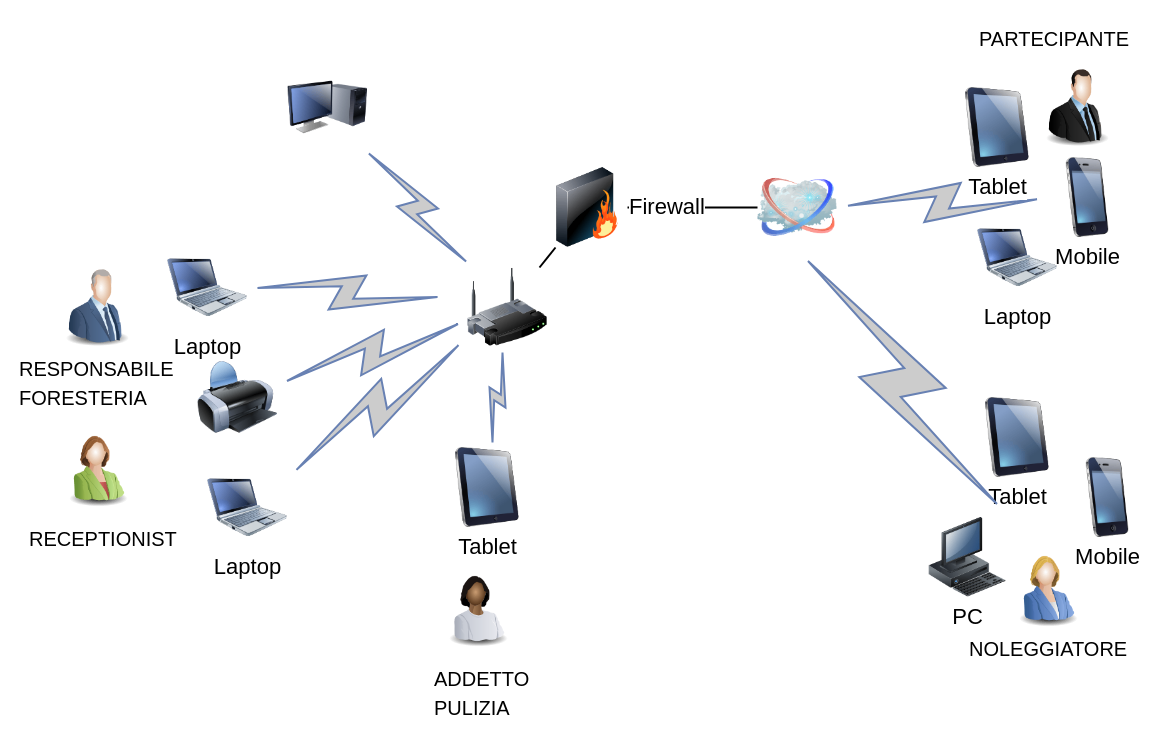
This 1164x747 diagram has some shape labels left out. Here are the shapes that lost their labels. From the top down, the centre of each, then its label:
At (327,107): "Server".
At (797,207): "Internet".
At (237,397): "Printer".
